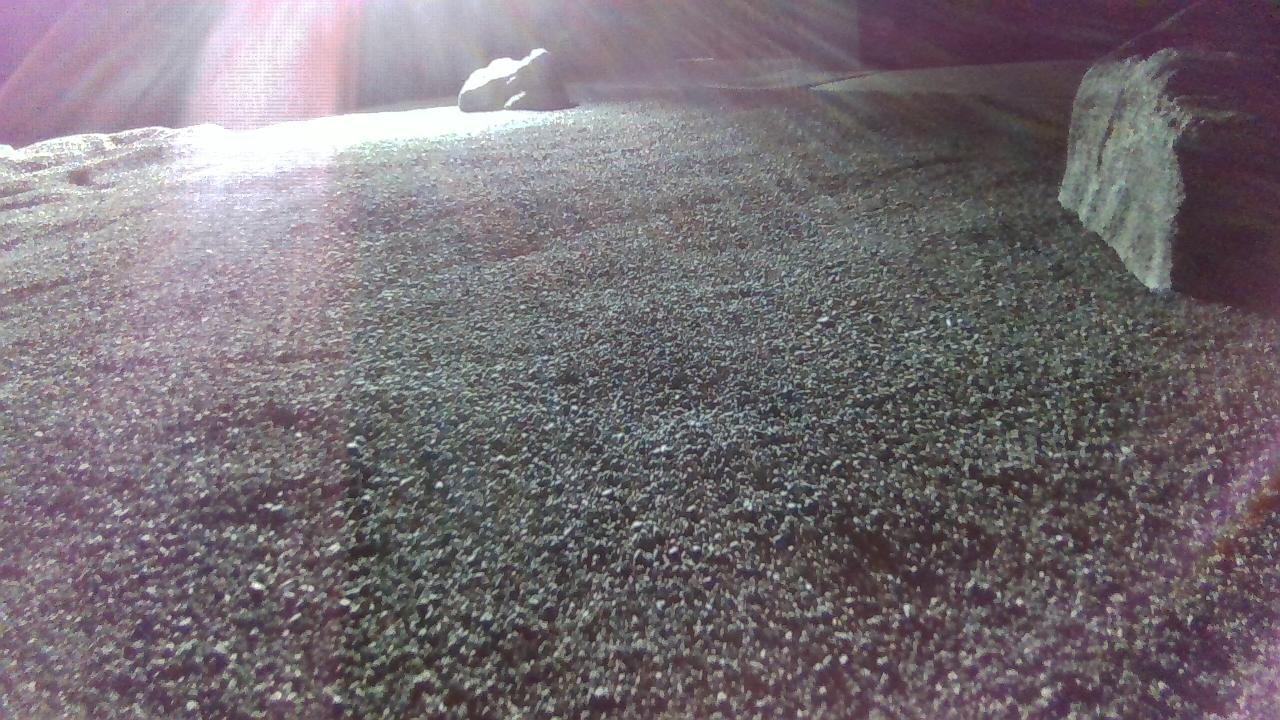rock: (1061, 1, 1280, 312), (459, 47, 572, 111)
